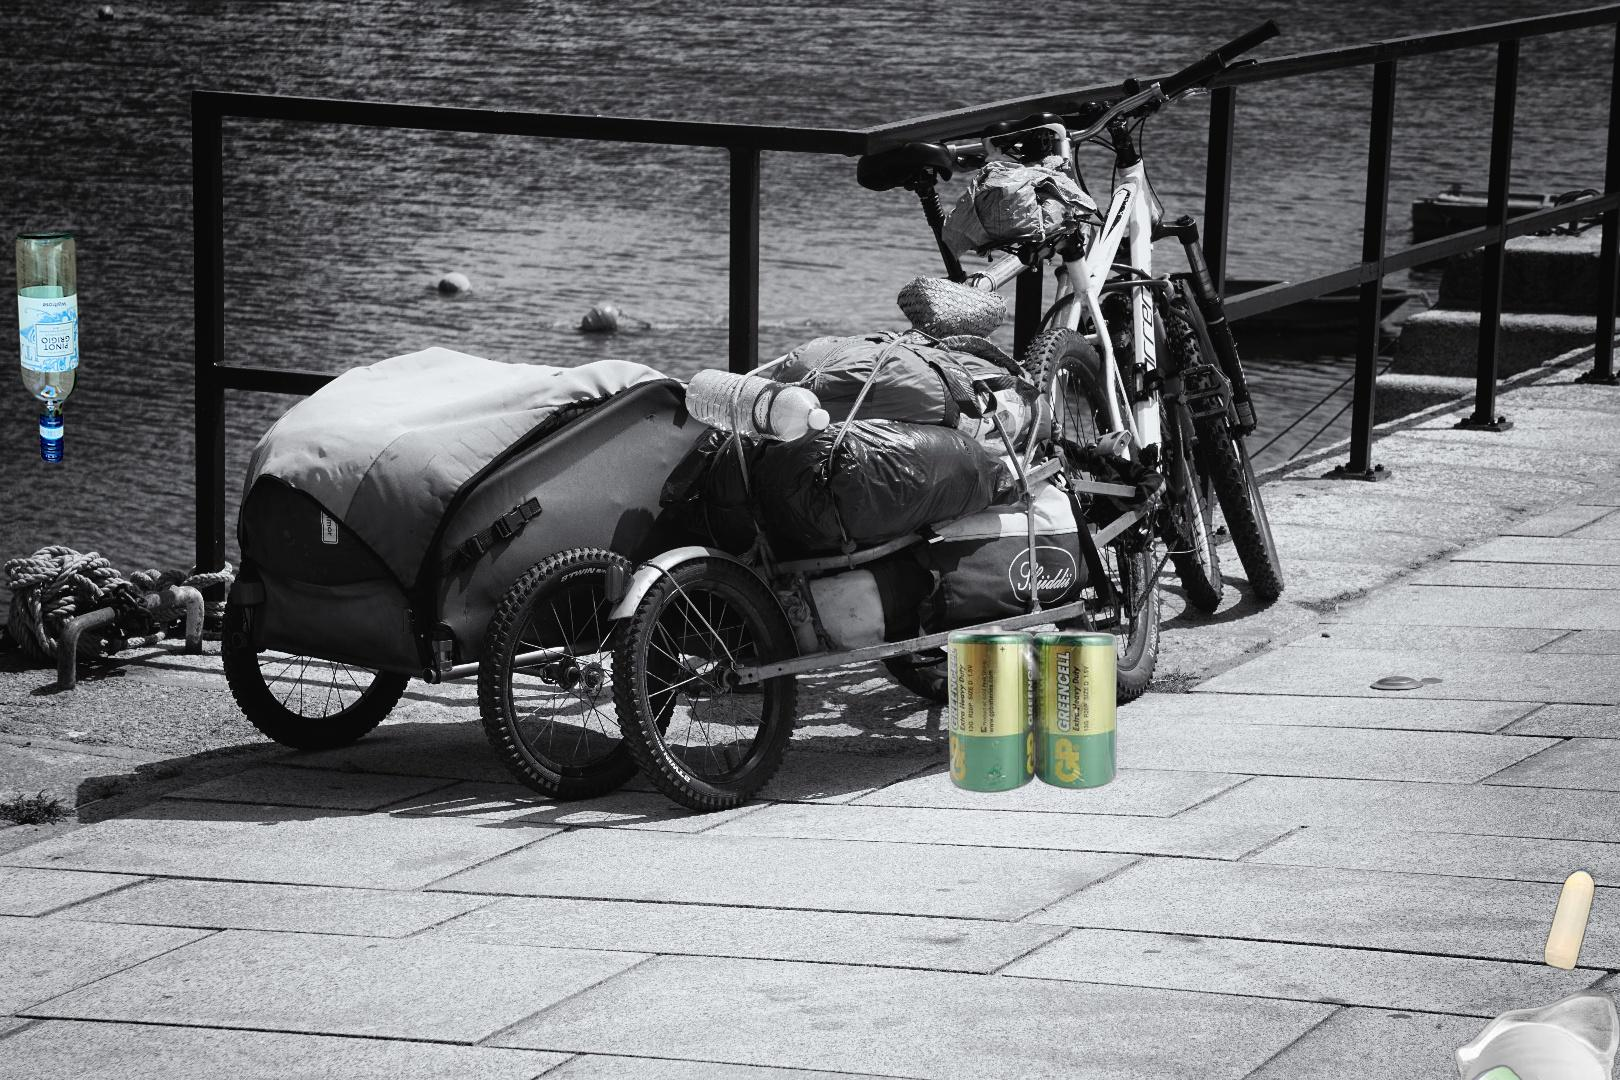battery: (944, 622, 1120, 796)
glass: (11, 225, 83, 469)
metal-cans: (1176, 1060, 1620, 1080)
plastic-bottles: (1539, 863, 1600, 978)
trash: (1430, 980, 1620, 1080)
